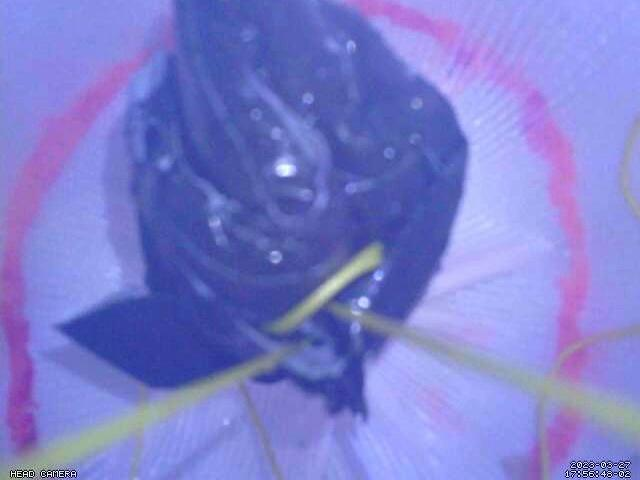head: (0, 0, 593, 480)
